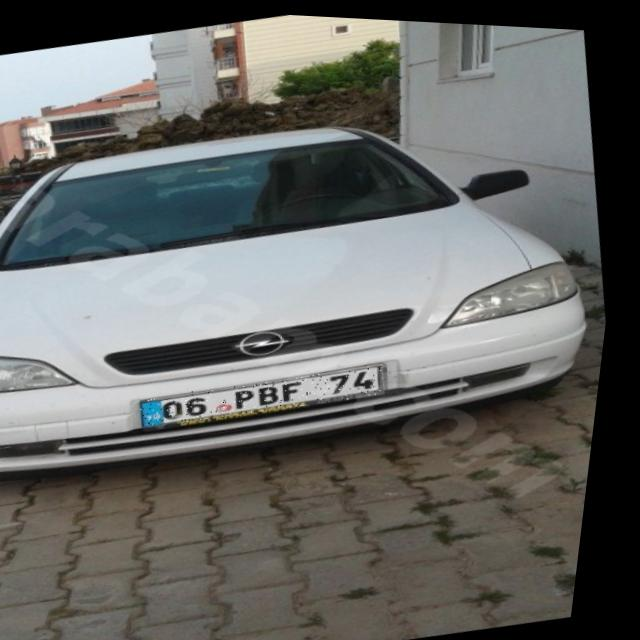license_plate: (147, 350, 400, 436)
